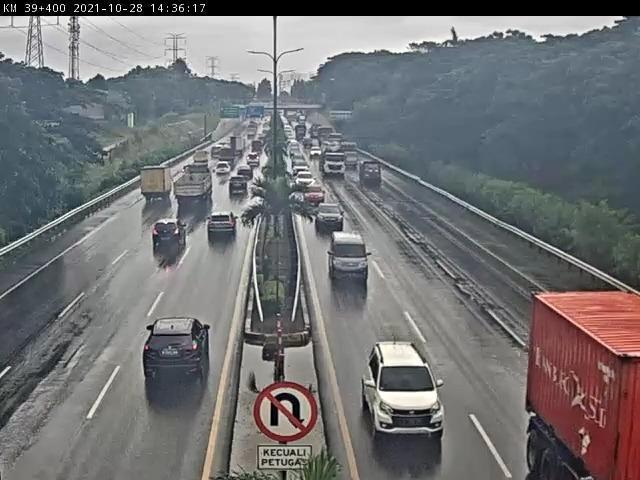car: (361, 340, 450, 440), (144, 317, 214, 387), (327, 229, 372, 283), (150, 218, 189, 252), (204, 208, 239, 242), (315, 200, 345, 227), (304, 182, 327, 206), (227, 174, 249, 196), (295, 172, 316, 191), (234, 165, 254, 182), (214, 161, 233, 178)
truck: (172, 169, 216, 210), (138, 166, 176, 209), (321, 151, 350, 179), (356, 161, 383, 186)
